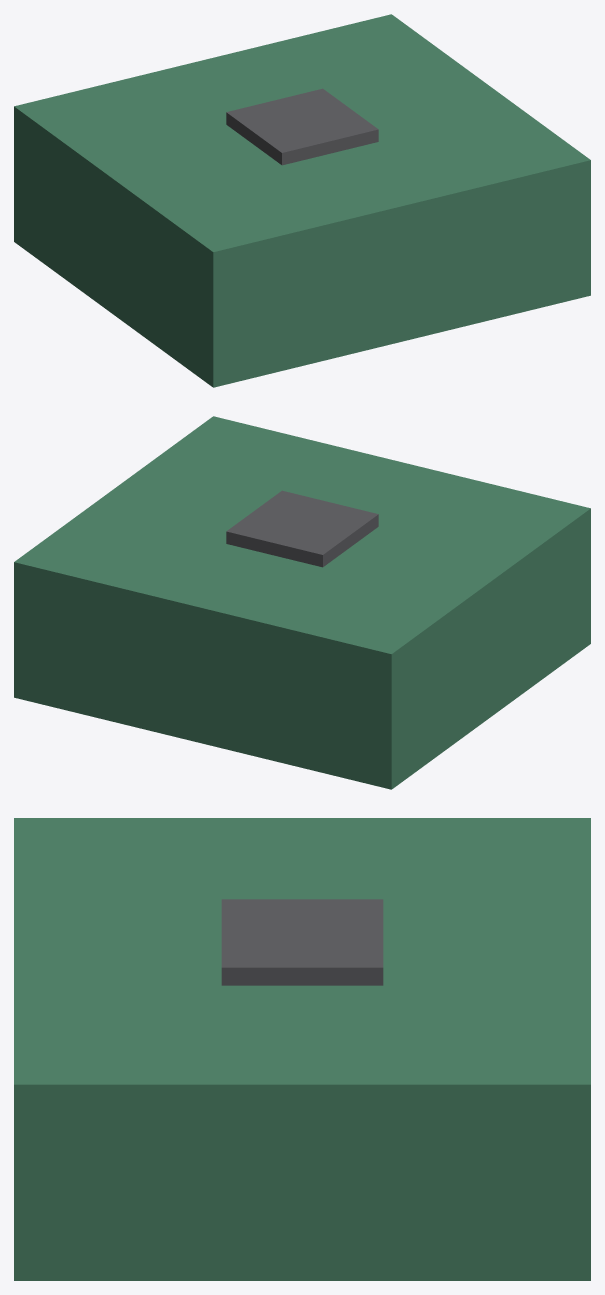
File: uln2003-board.glb
3 views of the same model, one above another, from view 1: azimuth 30°, elevation 25°; view 2: azimuth 150°, elevation 25°; view 3: azimuth 270°, elevation 25° (orthographic). The views are drawn at different scales.
Visible parts, largest first — view 1: uln2003-board-pcb, uln2003-board-ic; view 2: uln2003-board-pcb, uln2003-board-ic; view 3: uln2003-board-pcb, uln2003-board-ic.
Boxes of the visible parts, x1,y1,x2,y2 form: uln2003-board-pcb: (14,14,590,387); uln2003-board-ic: (226,88,378,165); uln2003-board-pcb: (14,416,590,789); uln2003-board-ic: (226,490,378,567); uln2003-board-pcb: (14,818,590,1280); uln2003-board-ic: (221,899,383,985).
Size of the model in its own units: 0.035 by 0.0131 by 0.032.
